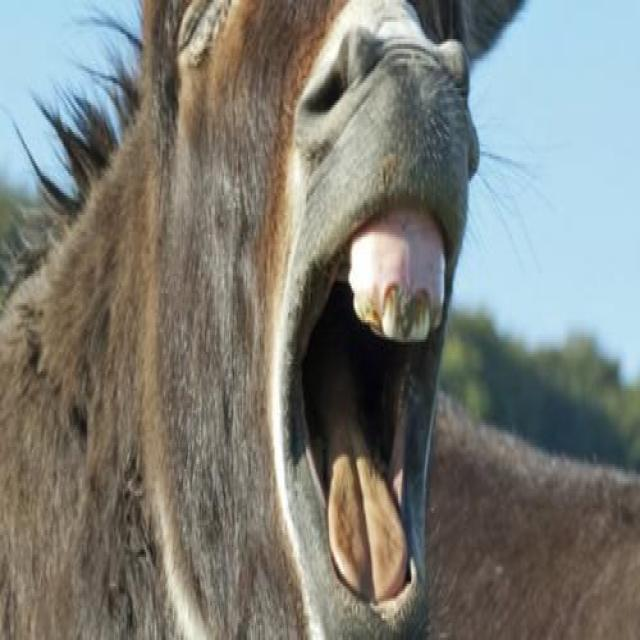Donkey: (0, 0, 528, 640), (406, 389, 640, 640)
